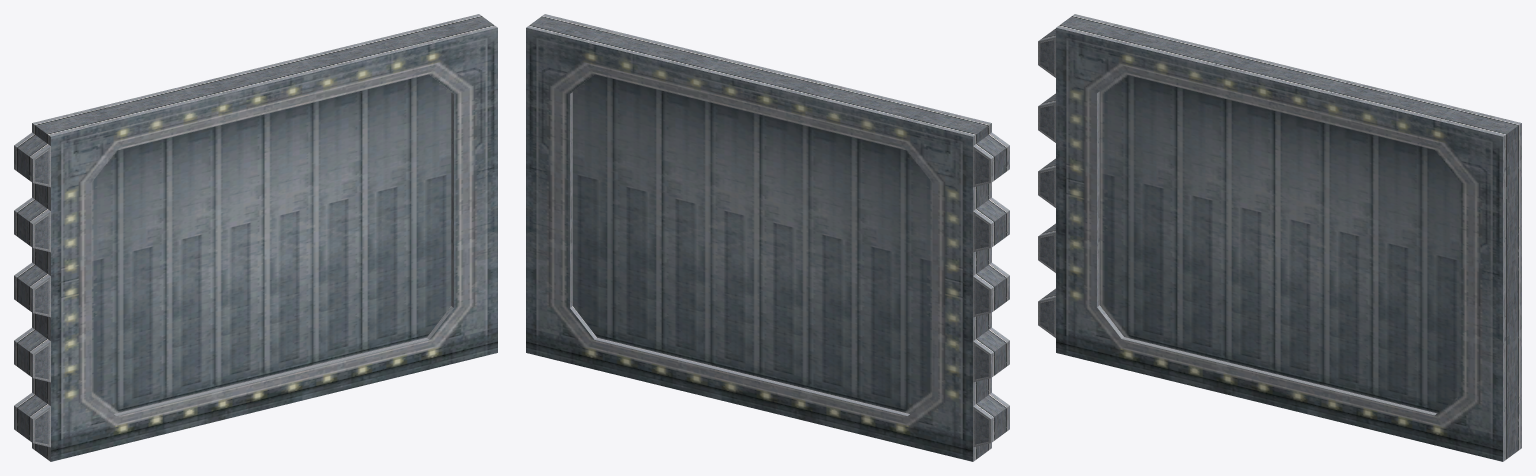
Rendered from space_station_door_2.fbx.
The picture shows the model from 3 angles, left to right: view 1: azimuth 30°, elevation 25°; view 2: azimuth 150°, elevation 25°; view 3: azimuth 330°, elevation 25°; orthographic projection.
Parts seen in each view (by area): view 1: mesh_node; view 2: mesh_node; view 3: mesh_node.
Part boxes in pixels (<box>): mesh_node: <box>14,14,497,461</box>; mesh_node: <box>526,14,1009,461</box>; mesh_node: <box>1038,14,1521,461</box>.
Size of the model in its own units: 56.19 by 37.55 by 3.93.
